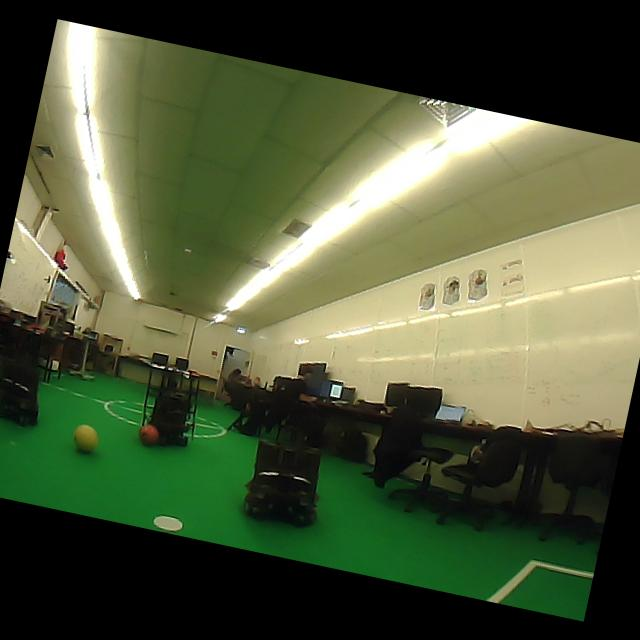ball: (74, 425, 98, 452), (138, 424, 159, 445)
robot: (243, 442, 320, 527), (141, 365, 199, 446), (0, 325, 42, 425)
